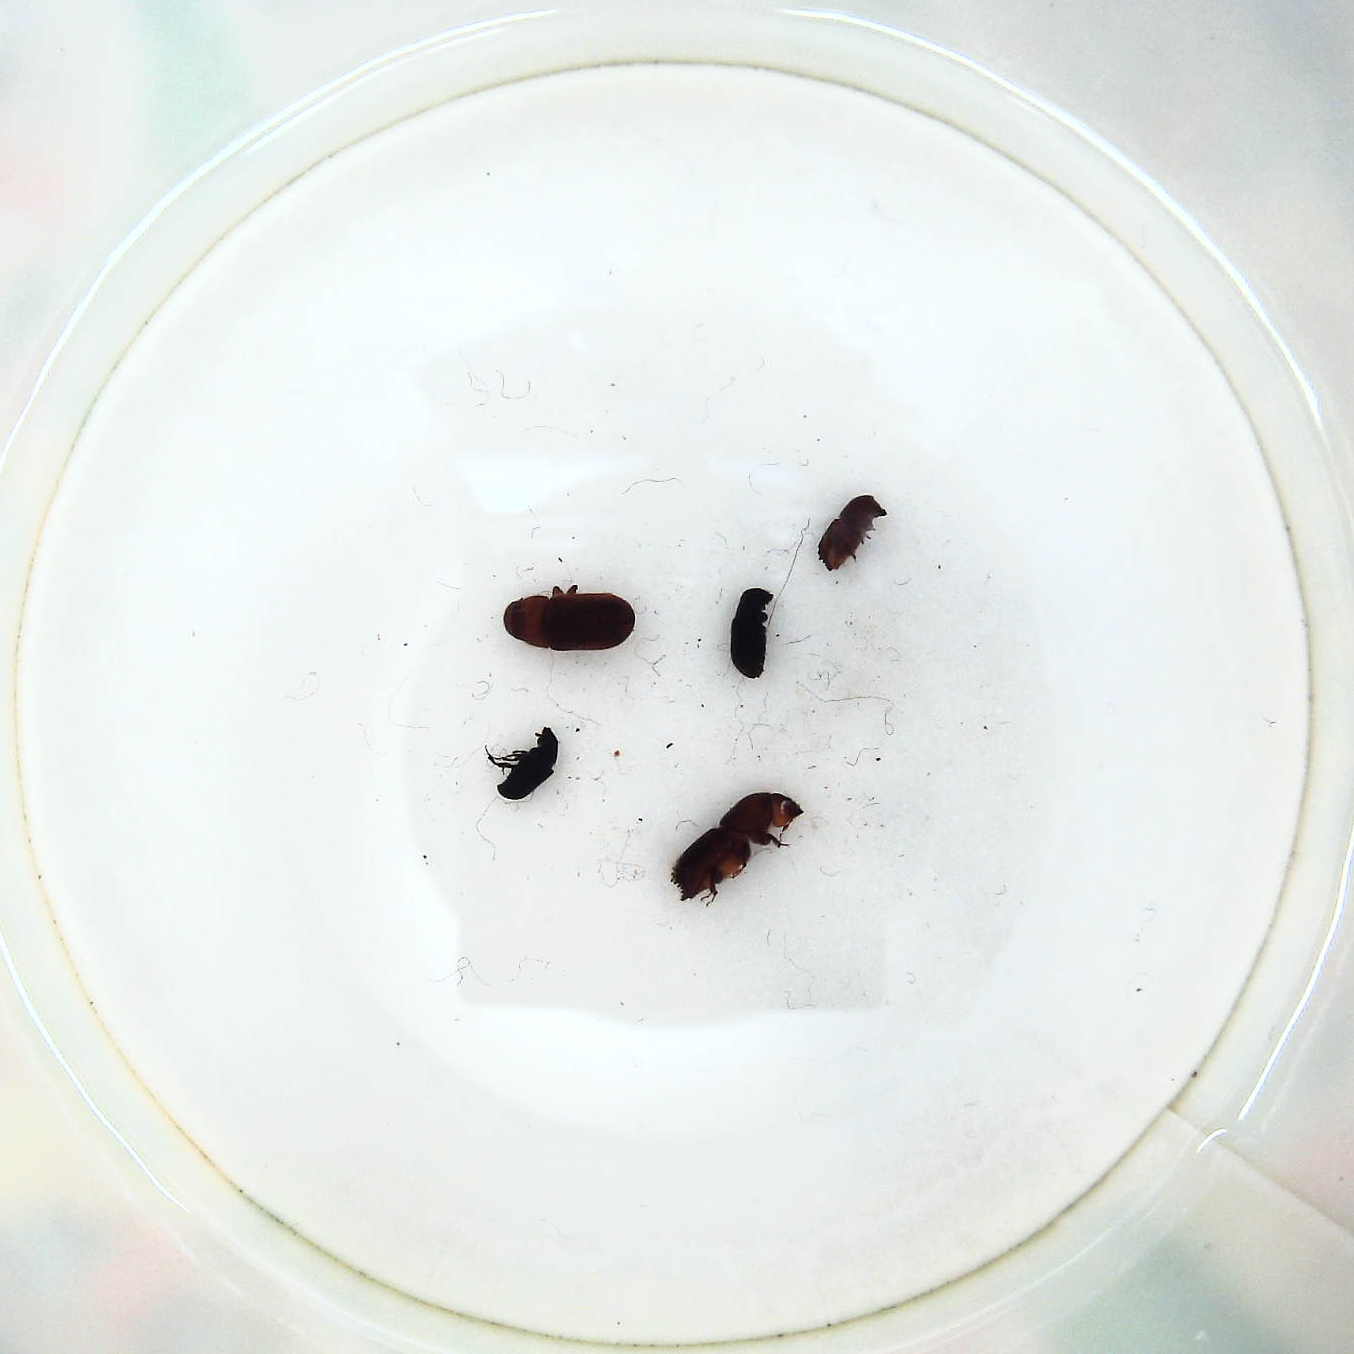Boerner: (671, 787, 810, 906)
Leconte: (500, 586, 644, 660)
armandi: (724, 584, 776, 684)
coleoptera: (480, 723, 559, 799)
linnaeus: (815, 496, 893, 574)
